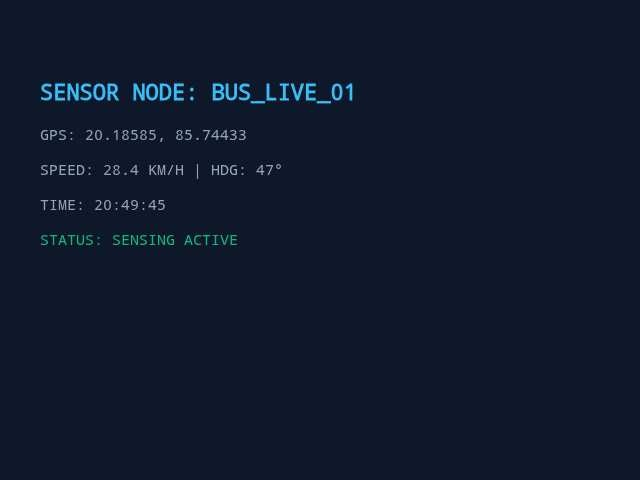pothole: (469, 395, 599, 435), (442, 395, 571, 435)
